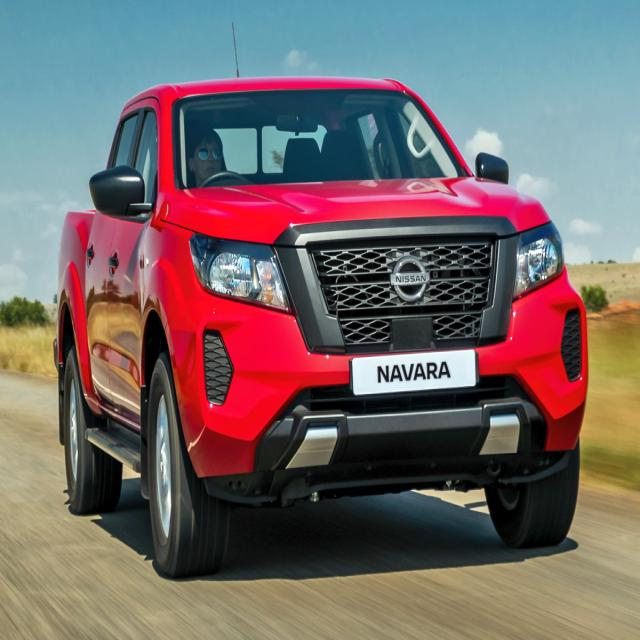Pickup Trucks: (53, 78, 589, 579)
